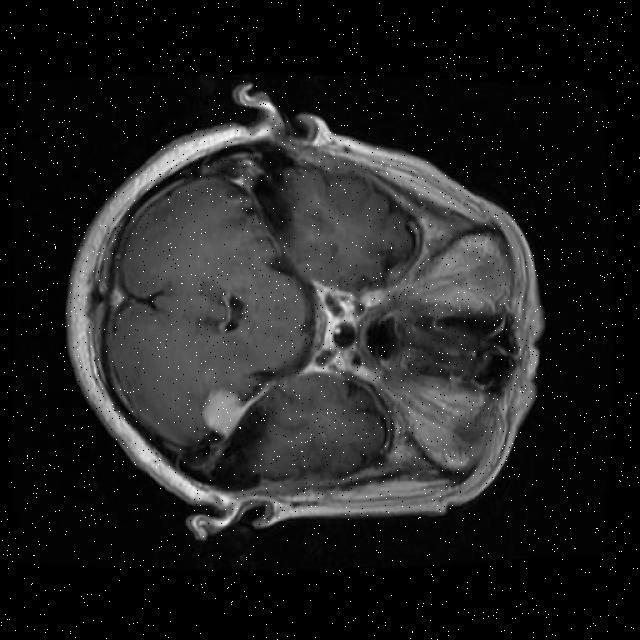Meningioma: (203, 389, 244, 437)
